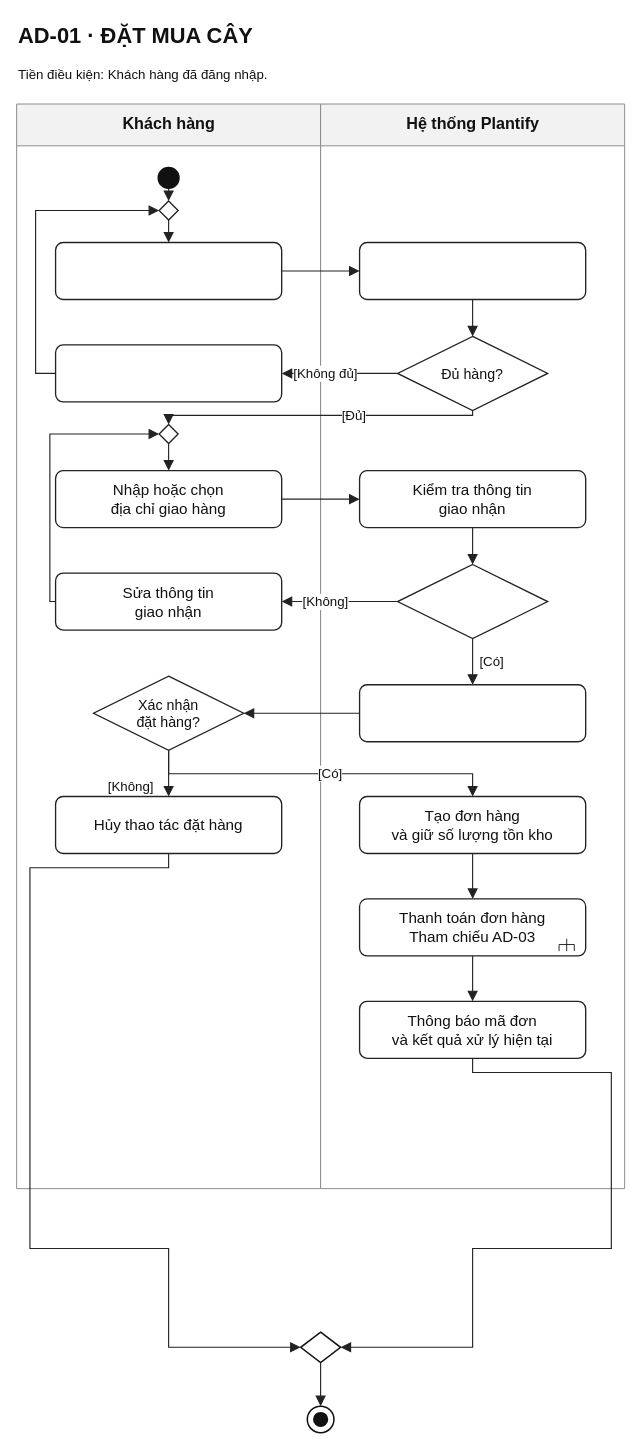
Some shapes in this 641 by 1450 pixel diagram are drawn without their labels. The shapes that lost their labels are listed below. From the top down, each one's centre as x and y in pixels, then its label:
At point 168,270: "Chọn cây, biến thể và số lượng".
At point 472,270: "Kiểm tra giỏ hàng và tồn kho bán".
At point 168,373: "Điều chỉnh số lượng hoặc chọn cây khác".
At point 472,601: "Hợp lệ?".
At point 472,713: "Tính tiền hàng, phí giao và hiển thị tổng tiền".
